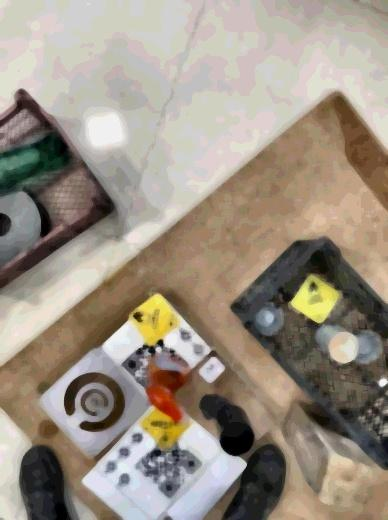oxidizer: (126, 290, 182, 346), (290, 272, 341, 326), (141, 400, 193, 450)
